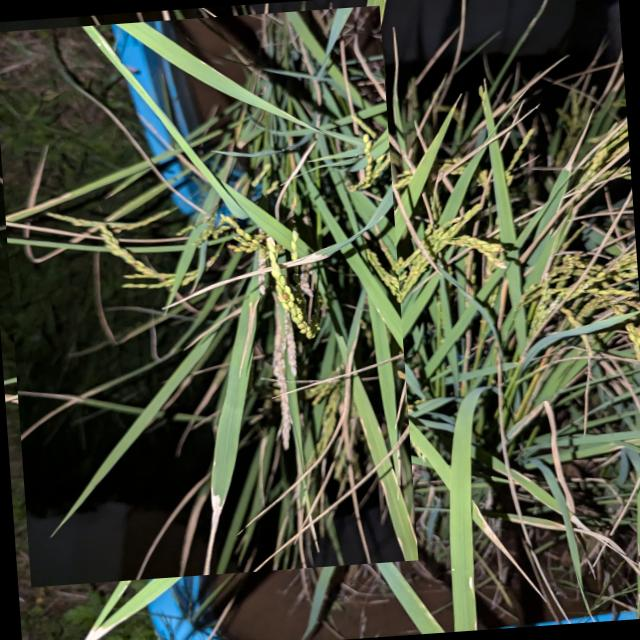9month_ine: (0, 5, 418, 587)
